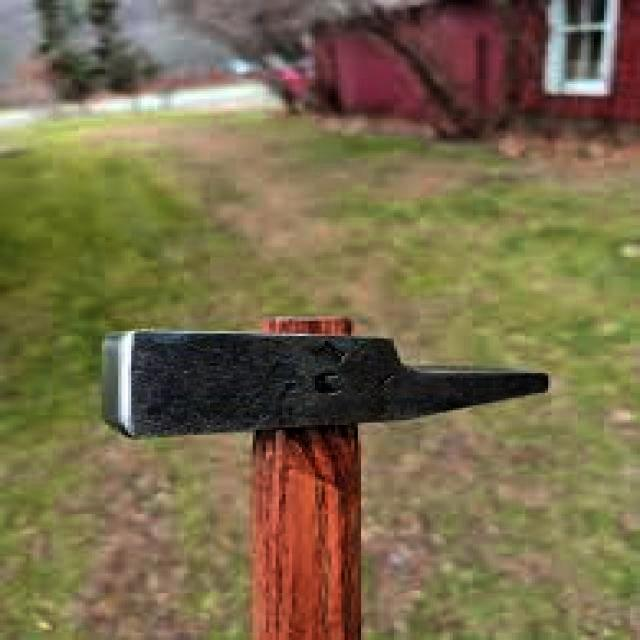hammer: (101, 301, 564, 640)
